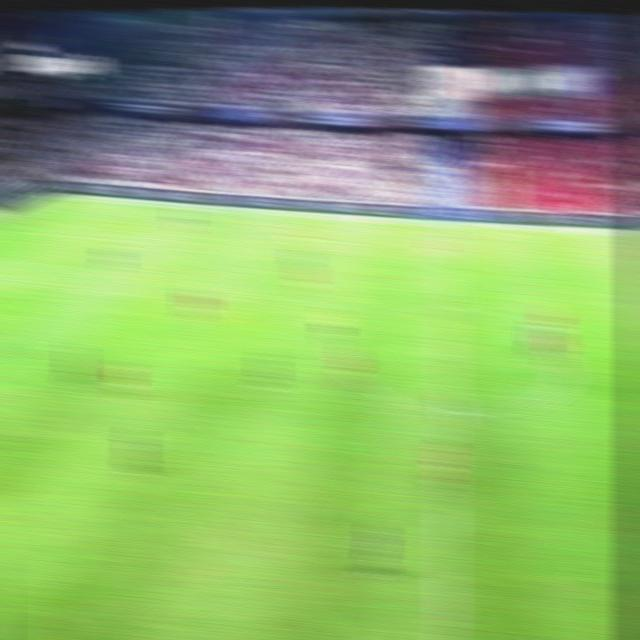bigarea_top_inner: (121, 233, 146, 249)
bigarea_top_outter: (0, 221, 8, 234)
bottom_arc_area_intersection: (0, 341, 13, 361)
corner: (44, 190, 71, 203)
halfcircle_bottom: (433, 395, 468, 426)
halfcircle_top: (432, 292, 467, 320)
midline_top_intersection: (435, 215, 464, 235)
top_arc_area_intersection: (71, 274, 97, 290)
